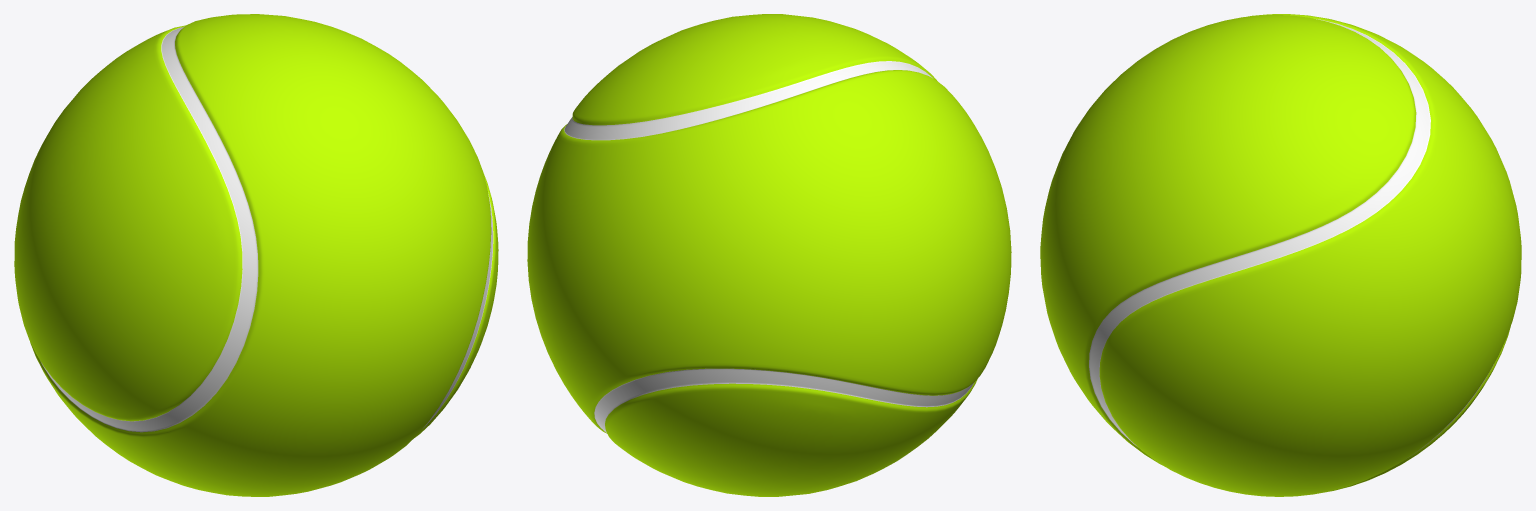
The model's file is TennisBallNew.fbx.
3 renders of one model, left to right at view 1: azimuth 30°, elevation 25°; view 2: azimuth 150°, elevation 25°; view 3: azimuth 270°, elevation 25°, orthographic.
Visible parts, largest first — view 1: Tennis_Ball_1; view 2: Tennis_Ball_1; view 3: Tennis_Ball_1.
Part boxes in pixels (x1,y1,x2,y2): Tennis_Ball_1: (14,14,498,496); Tennis_Ball_1: (527,14,1011,496); Tennis_Ball_1: (1040,14,1521,496).
Bounding box in the file's own units: 83.72 × 83.76 × 83.8.
